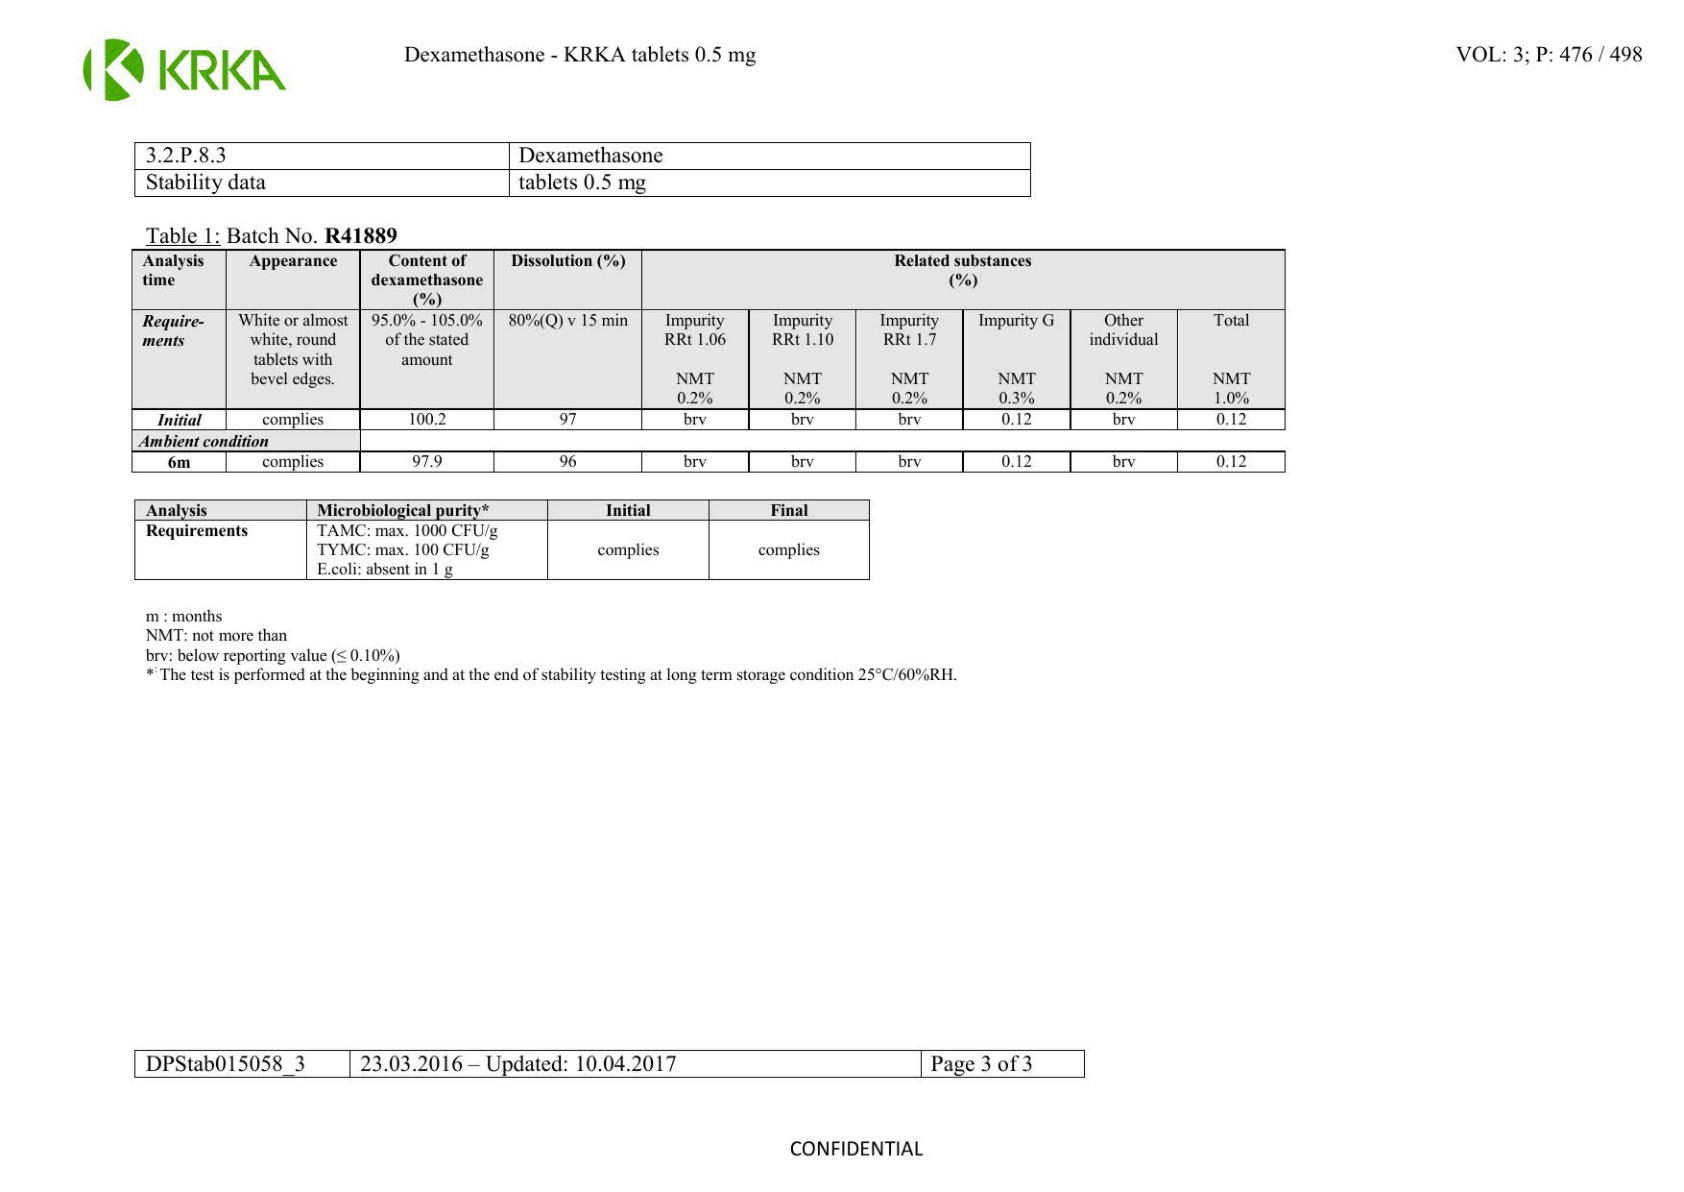full_lined: (132, 248, 1286, 473), (134, 499, 870, 581), (134, 141, 1032, 197), (134, 1049, 1086, 1078)
